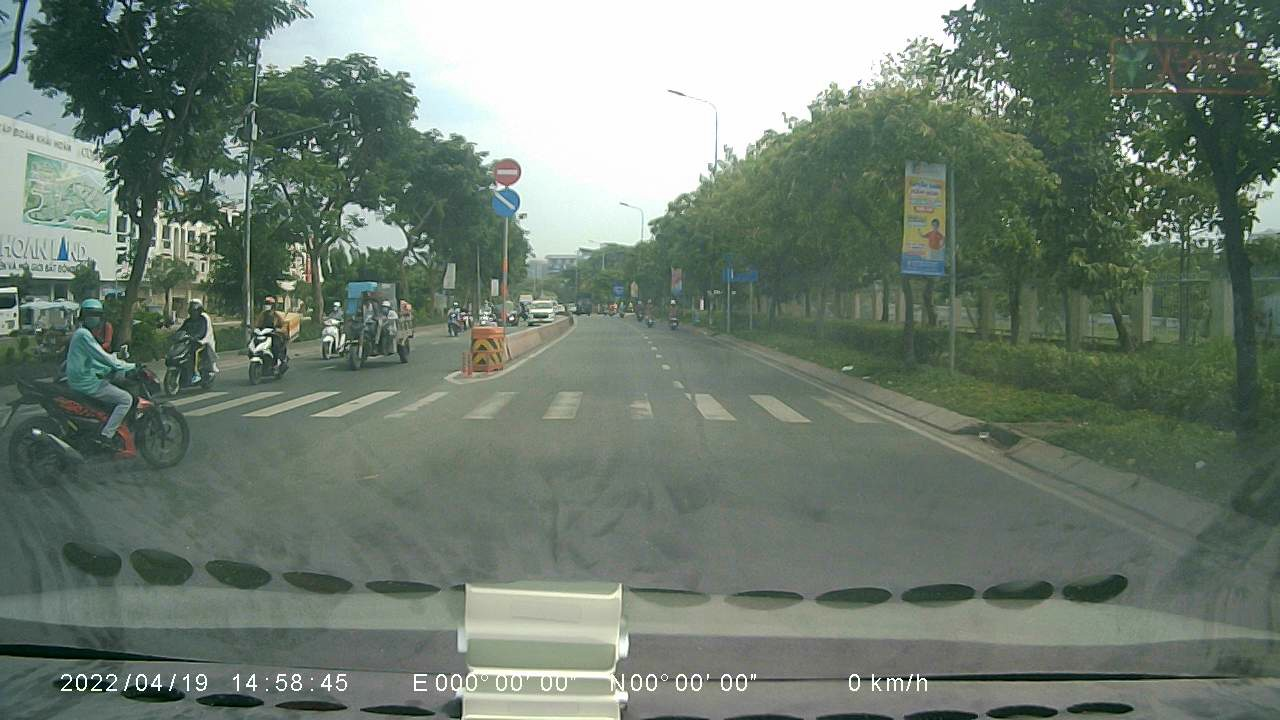Cam di nguoc chieu: (492, 155, 522, 184)
Huong di phai re phai: (490, 185, 522, 217)
